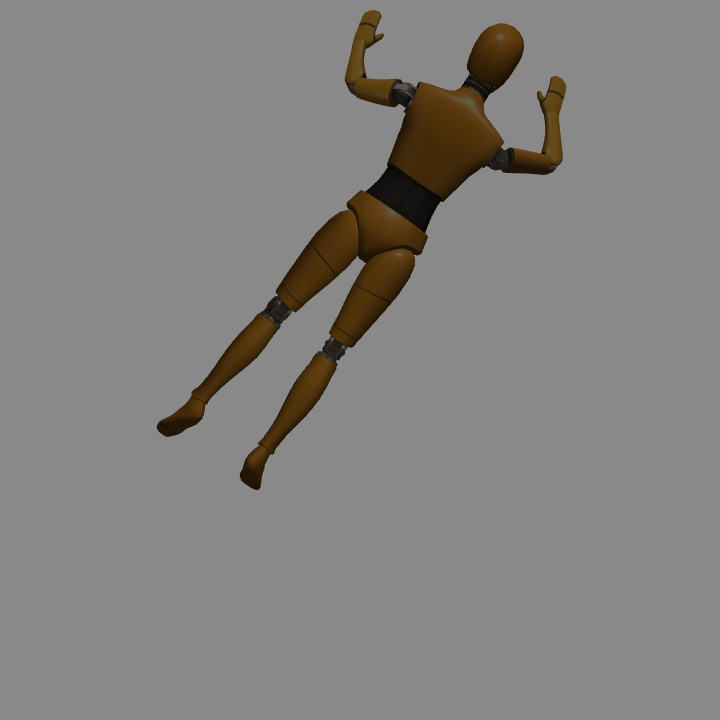victim: (157, 30, 564, 489)
